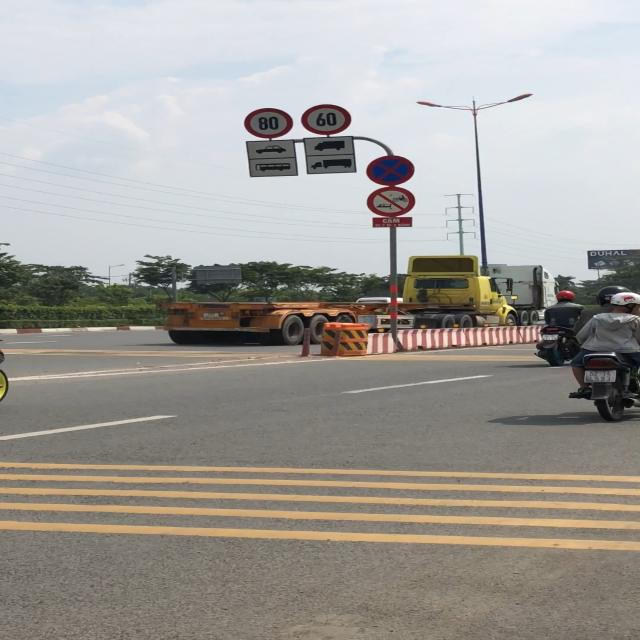Bien bao cam dung xe va do xe: (365, 155, 419, 185)
Bien bao toc do toi da cho phep: (297, 102, 353, 136), (242, 107, 296, 140)
